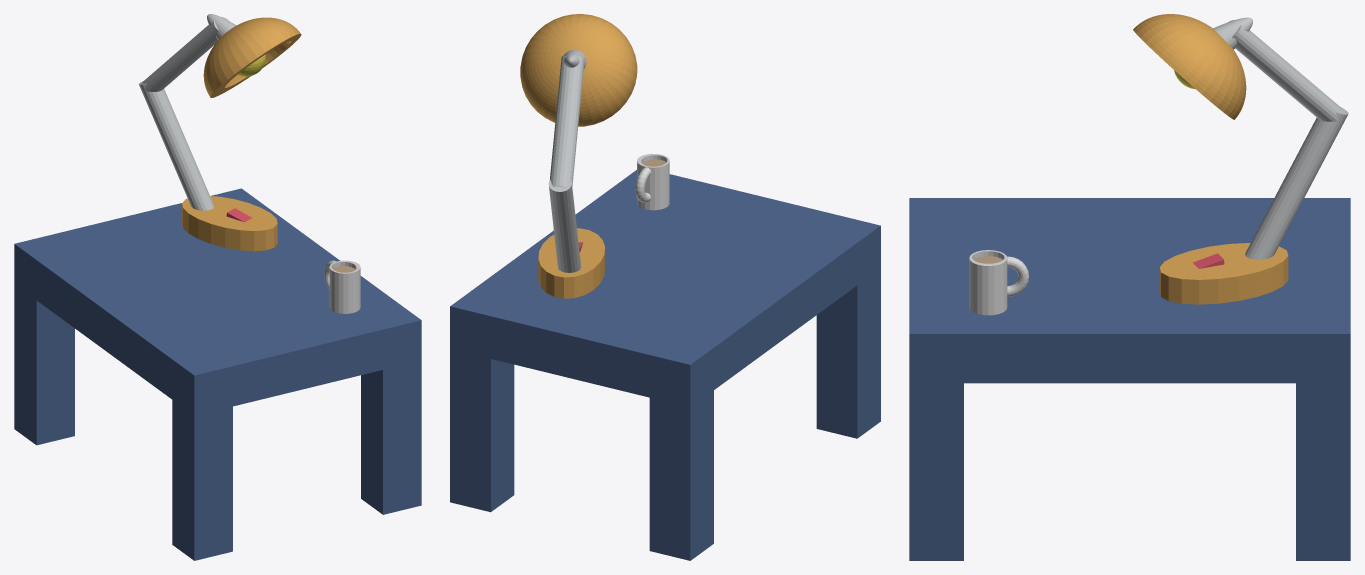
File: TableModel.glb
3 views of the same model, side by side, from view 1: azimuth 30°, elevation 25°; view 2: azimuth 150°, elevation 25°; view 3: azimuth 270°, elevation 25° (orthographic). The views are drawn at different scales.
Visible parts, largest first — view 1: Mesh_Mesh_head_geo.001_lambert2SG.001; view 2: Mesh_Mesh_head_geo.001_lambert2SG.001; view 3: Mesh_Mesh_head_geo.001_lambert2SG.001.
Boxes of the visible parts, x1=… form: Mesh_Mesh_head_geo.001_lambert2SG.001: x1=14, y1=14, x2=421, y2=560; Mesh_Mesh_head_geo.001_lambert2SG.001: x1=450, y1=14, x2=880, y2=560; Mesh_Mesh_head_geo.001_lambert2SG.001: x1=909, y1=14, x2=1350, y2=560.
Size of the model in its own units: 59 by 103 by 81.
